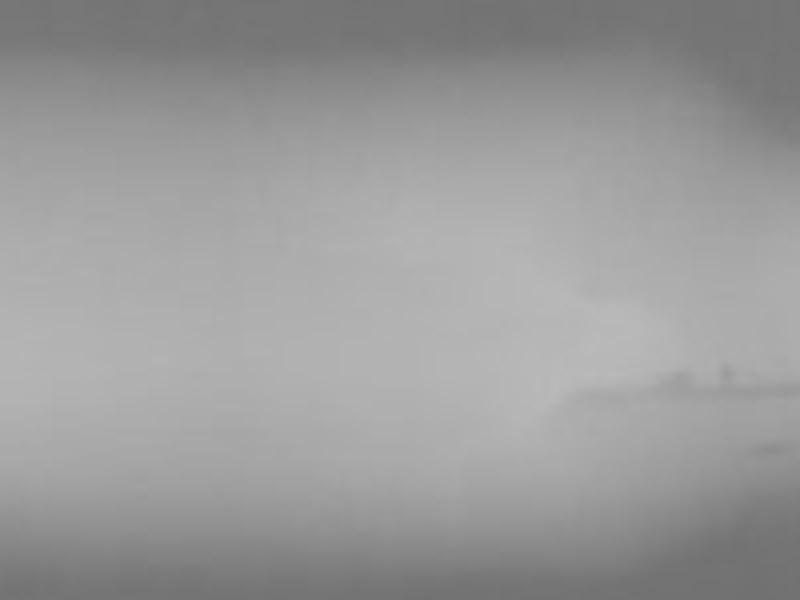defect: (656, 369, 694, 393), (747, 438, 790, 457), (716, 362, 735, 382)
